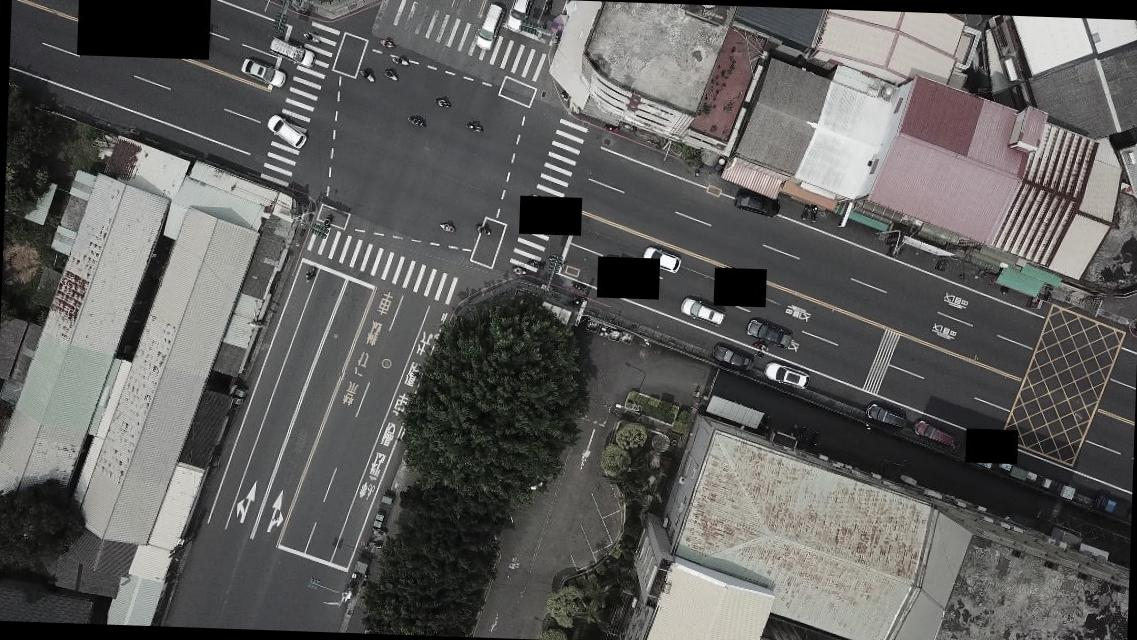vehicle: (473, 2, 504, 54), (269, 35, 317, 68), (263, 113, 308, 148), (238, 56, 287, 88), (732, 188, 780, 220), (744, 317, 792, 349), (679, 296, 725, 328), (762, 360, 810, 390), (711, 342, 756, 372), (911, 418, 956, 447), (864, 401, 908, 428), (640, 246, 680, 274), (506, 0, 532, 33), (124, 0, 171, 10)
